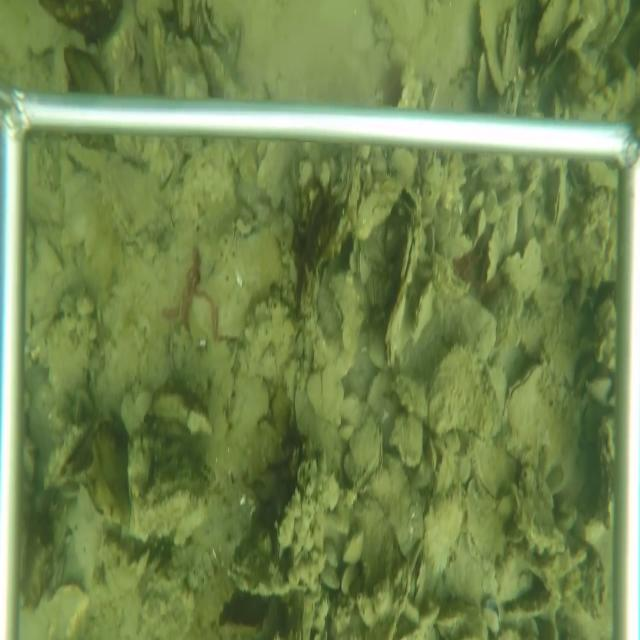Oyster-Closed: (504, 360, 587, 496), (425, 343, 505, 442), (385, 181, 425, 368), (470, 430, 518, 506), (328, 274, 370, 358), (344, 415, 385, 497), (410, 279, 435, 348), (498, 5, 518, 91), (549, 168, 568, 233), (355, 252, 371, 286), (368, 275, 382, 310)
Oyster-Indeterminate: (42, 310, 97, 412), (475, 1, 512, 96), (529, 2, 568, 67), (478, 223, 501, 287)
Oyster-Open: (42, 424, 99, 495)
